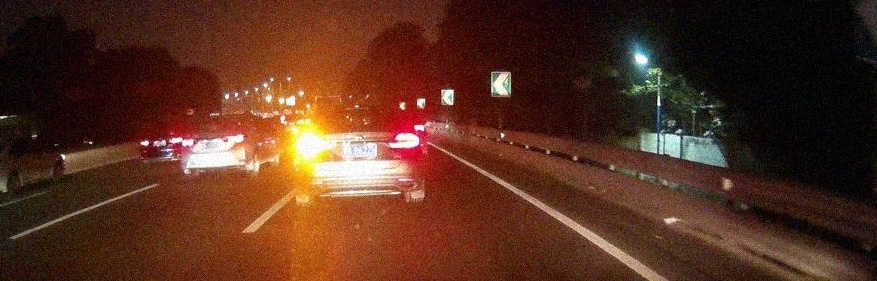L_light: (299, 135, 328, 150), (181, 138, 195, 147)
R_light: (388, 132, 420, 148), (228, 134, 243, 143)
T_light: (350, 110, 371, 116), (214, 119, 225, 123)
night-left: (297, 106, 425, 204)
night-no: (181, 113, 246, 177)
